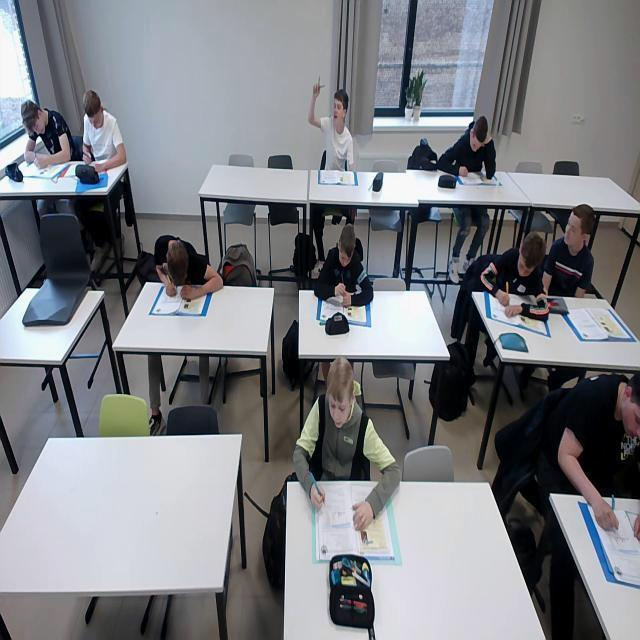Looking away: (564, 205, 596, 252)
Raising hand: (311, 80, 354, 172)
Reading-writing: (284, 360, 408, 561), (568, 366, 640, 594), (472, 234, 558, 336), (422, 108, 518, 192), (308, 225, 376, 324), (144, 228, 218, 316), (14, 90, 72, 178), (74, 90, 130, 177)
